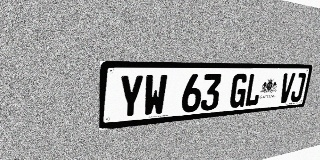3: (200, 74, 222, 111)
6: (181, 74, 204, 113)
G: (228, 73, 249, 108)
J: (290, 73, 306, 102)
L: (244, 73, 263, 107)
V: (278, 73, 295, 103)
W: (143, 74, 168, 117)
Y: (117, 74, 144, 119)
